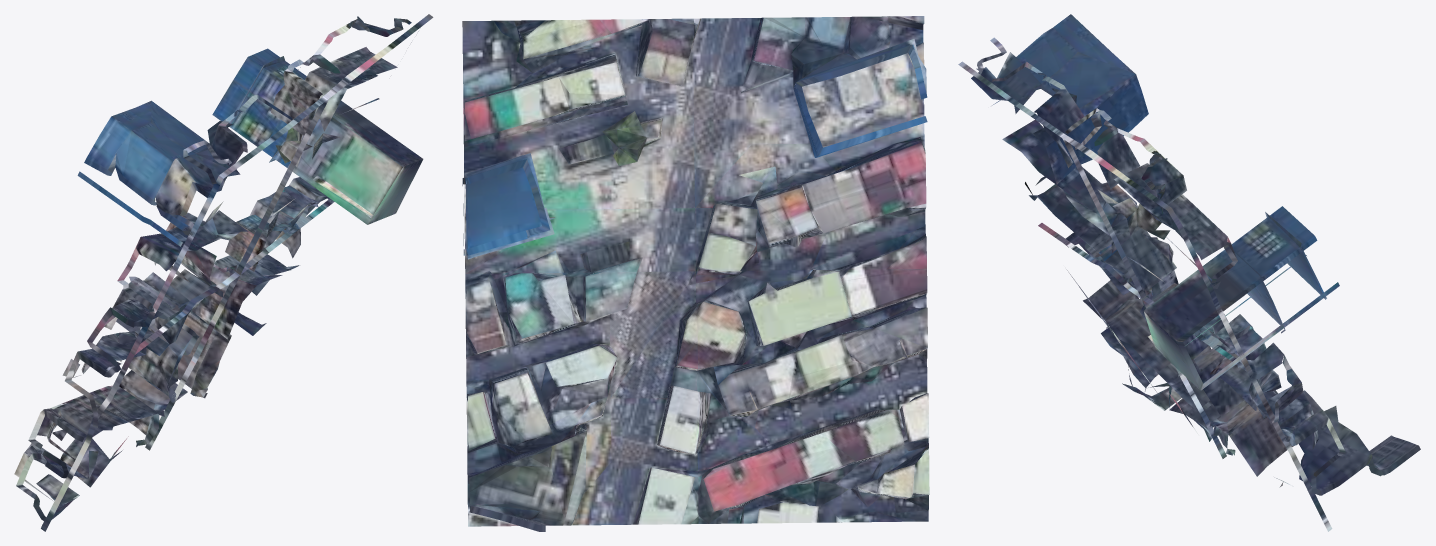
3 views of the same model, side by side, from view 1: azimuth 30°, elevation 25°; view 2: azimuth 150°, elevation 25°; view 3: azimuth 270°, elevation 25° (orthographic). The views are drawn at different scales.
Size of the model in its own units: 158 by 148 by 160.
Materials: 1 (1 with a texture image).
